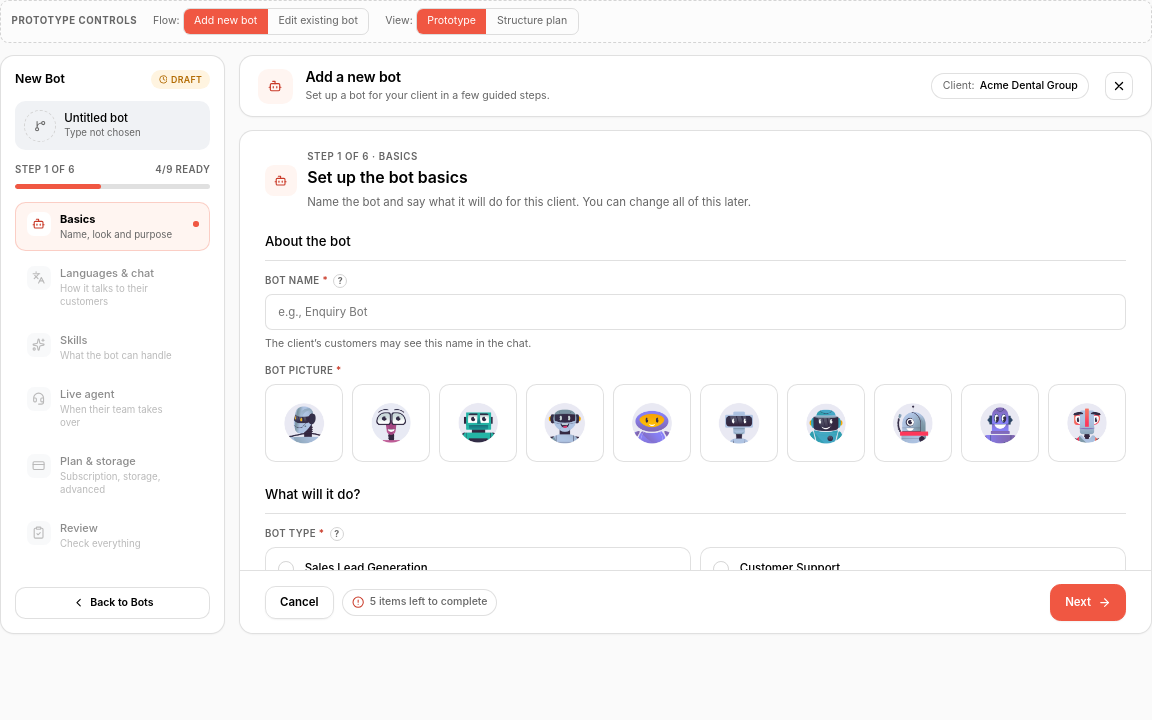
Test: bot setup wizard › opens every step in edit mode and tracks unsaved changes
Click the button "Edit existing bot": (318, 21) [268,9,368,34]
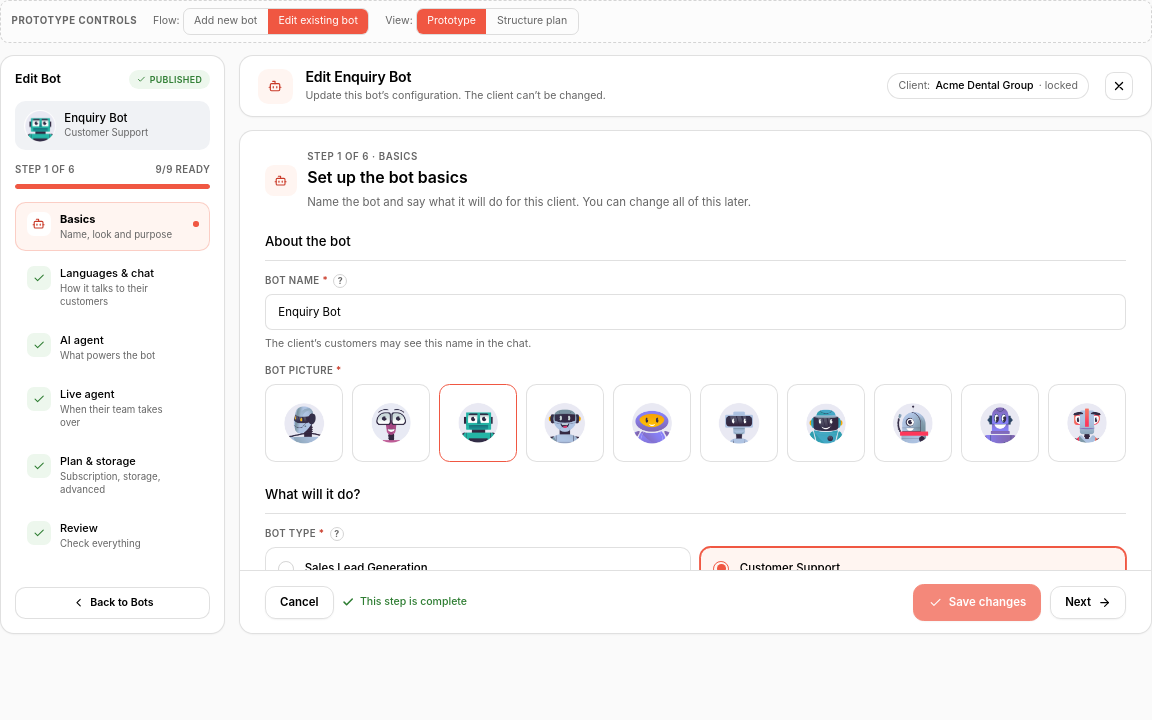
Check: the heading "Edit Enquiry Bot" is shown, box [305,68,411,85]
Check: the button with class "rstep" that starts with "Plan & storage" is enabled
Click the button with class "rstep" that starts with "Plan & storage": (113, 475) [15,444,210,506]
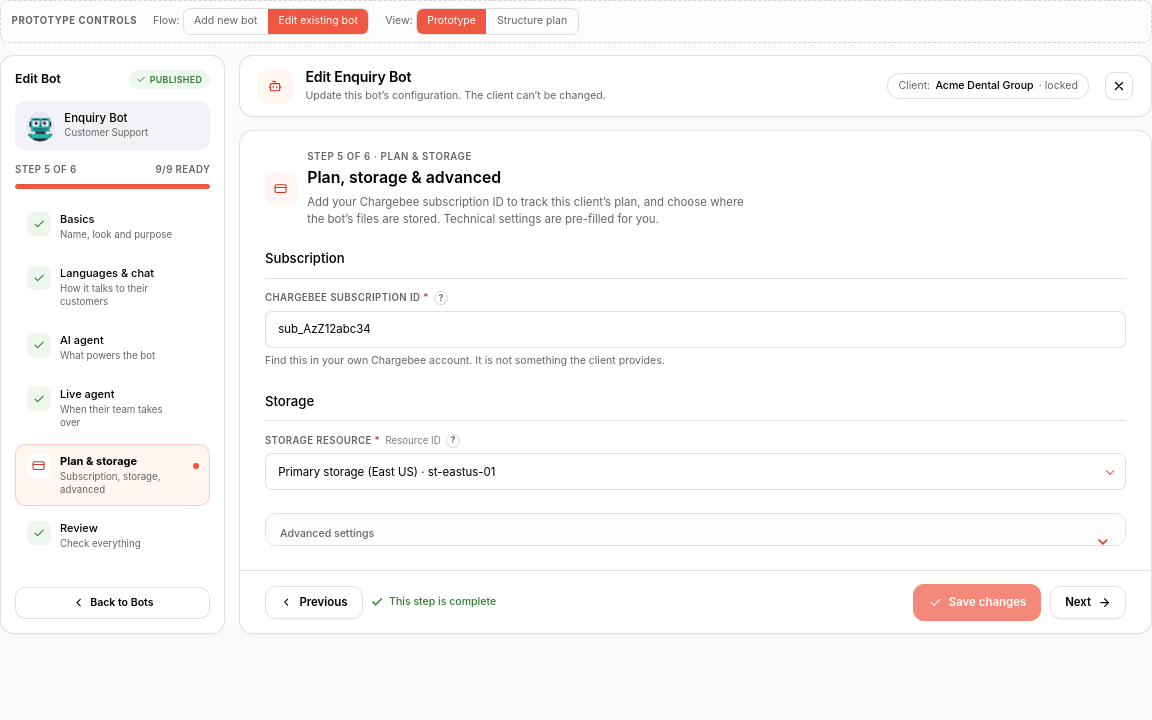
Check: the text "Unsaved changes" is not shown
Check: the heading "Plan, storage & advanced" is shown, box [307,168,501,187]
Replace the text in the field with id "f-chargebeeId" with "sub_changed": (696, 329) [265,311,1126,348]
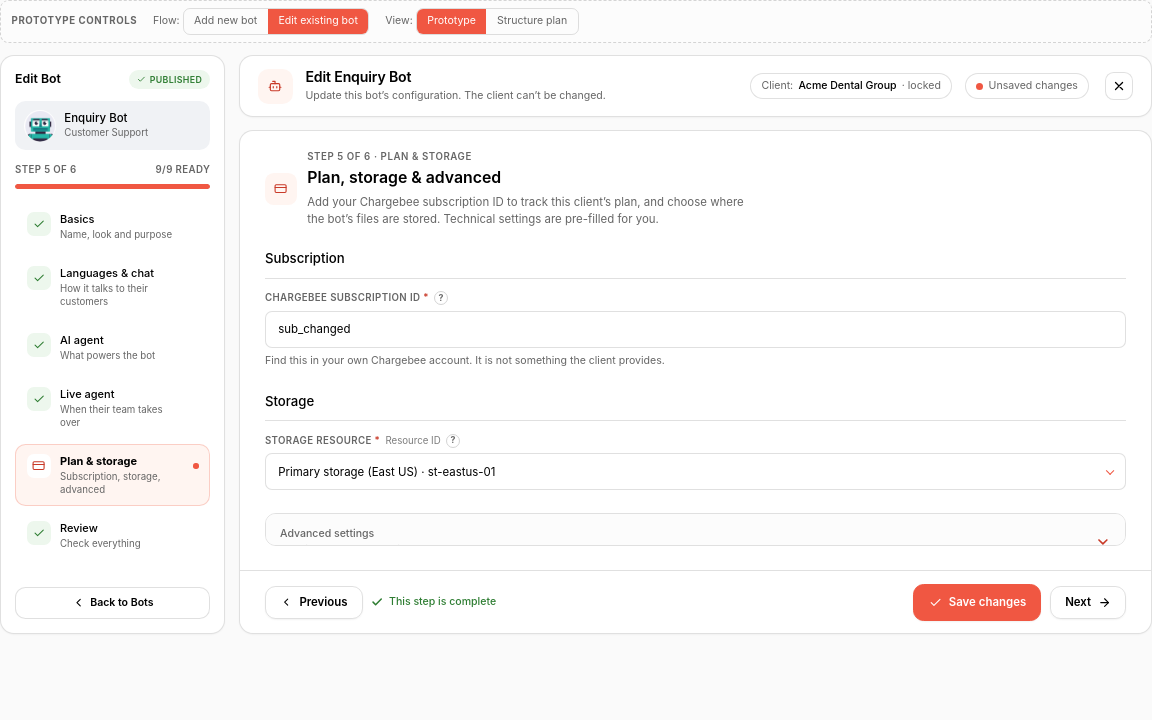
Check: the text "Unsaved changes" is shown, box [965,73,1089,99]
